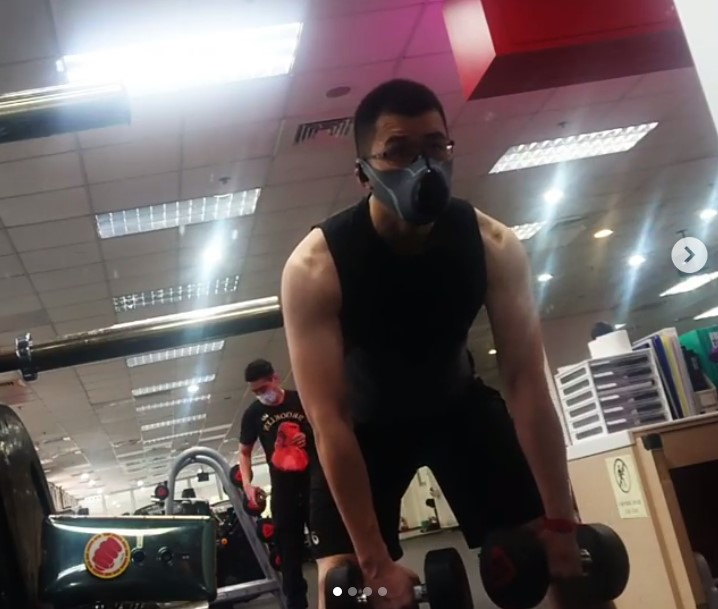face_with_mask: (345, 77, 459, 228), (237, 354, 283, 408)
